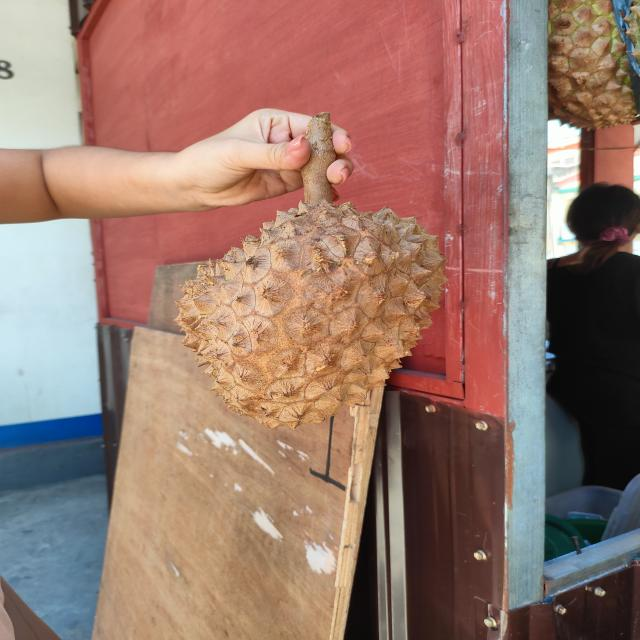mature: (173, 197, 451, 432)
